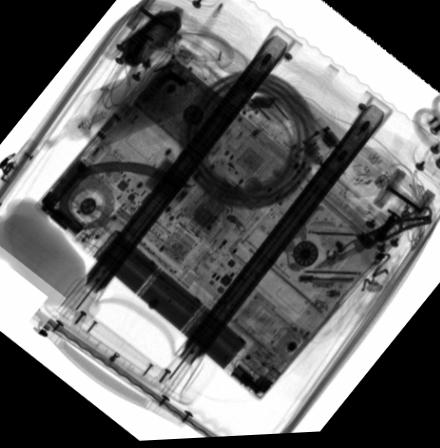Knife: (313, 211, 432, 272)
